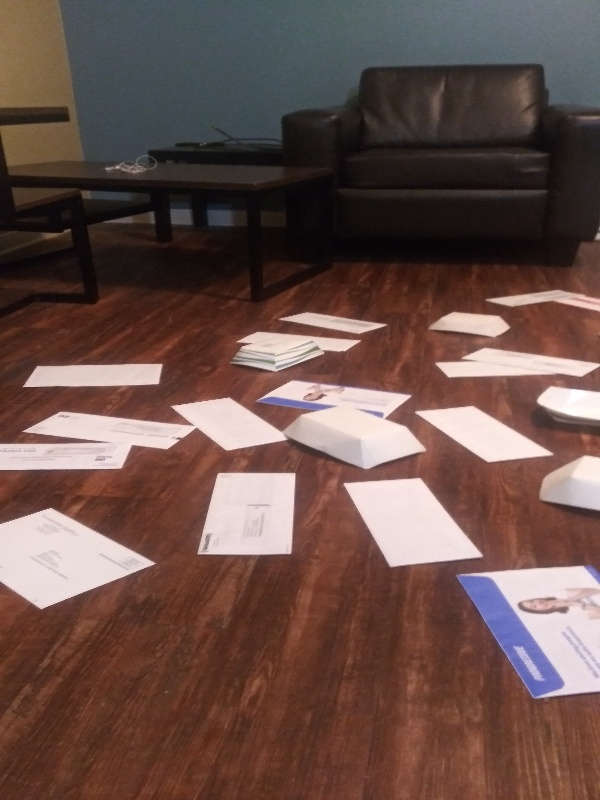plate: (279, 402, 429, 475), (531, 454, 600, 523), (226, 332, 332, 375), (531, 383, 600, 436), (424, 308, 516, 344)
